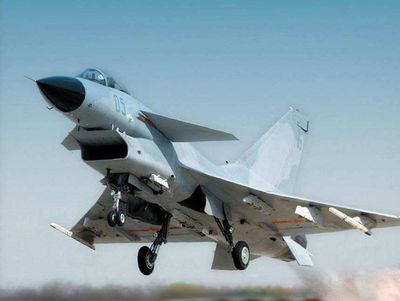airplane: (22, 66, 400, 277)
